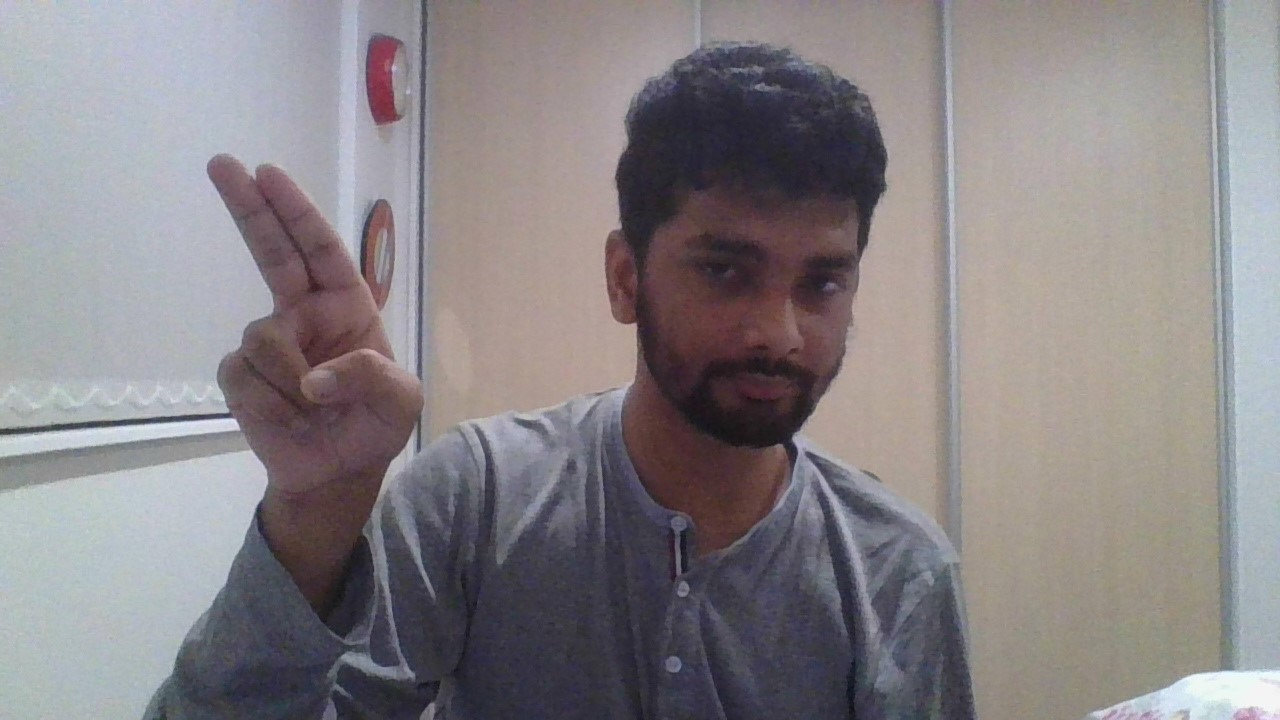peace: (204, 153, 418, 494)
